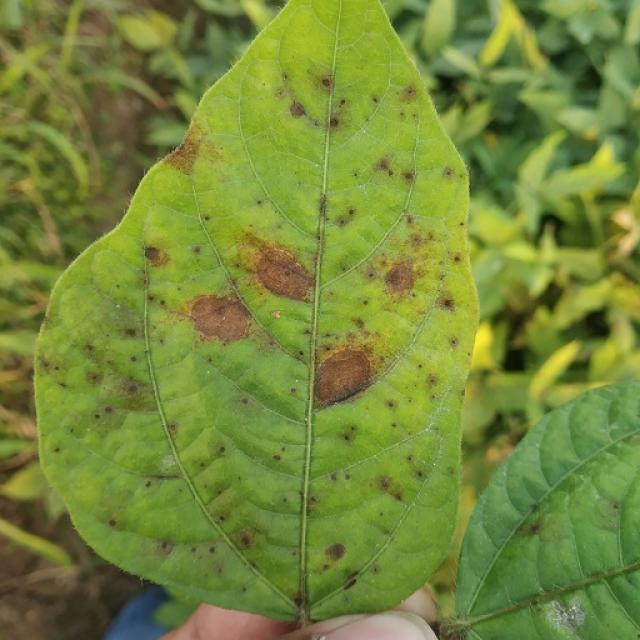Anthracnose: (184, 238, 409, 404), (358, 228, 442, 308), (181, 289, 258, 353), (287, 74, 363, 137), (313, 348, 372, 406), (253, 247, 313, 302), (188, 294, 251, 343), (166, 125, 208, 172), (532, 507, 573, 544), (592, 497, 624, 532), (383, 262, 416, 295), (144, 245, 170, 267), (325, 543, 346, 562), (399, 84, 418, 104), (289, 100, 306, 119), (374, 158, 393, 175), (438, 293, 455, 310), (342, 574, 358, 592), (318, 194, 328, 214), (529, 520, 543, 534), (425, 374, 438, 388), (380, 475, 392, 490), (293, 594, 305, 608), (126, 383, 139, 395), (240, 534, 252, 547), (328, 116, 339, 128), (321, 76, 332, 88), (124, 327, 137, 337), (444, 168, 453, 177), (344, 432, 353, 441), (240, 396, 249, 404), (387, 400, 395, 409), (108, 519, 116, 527), (218, 446, 226, 454), (273, 454, 281, 461), (453, 255, 461, 262), (417, 470, 423, 478)
Blackgram: (35, 0, 478, 620)
